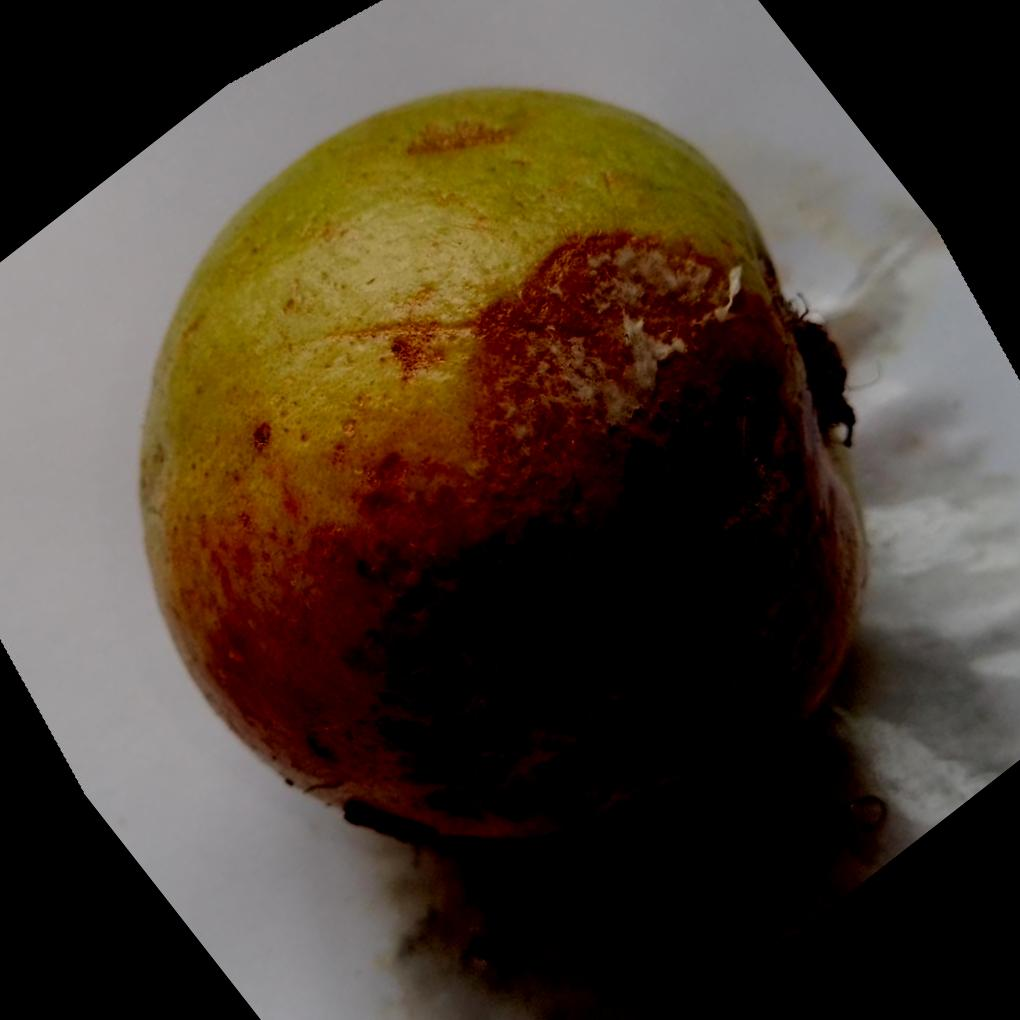FreshOrange: (138, 86, 870, 848)
